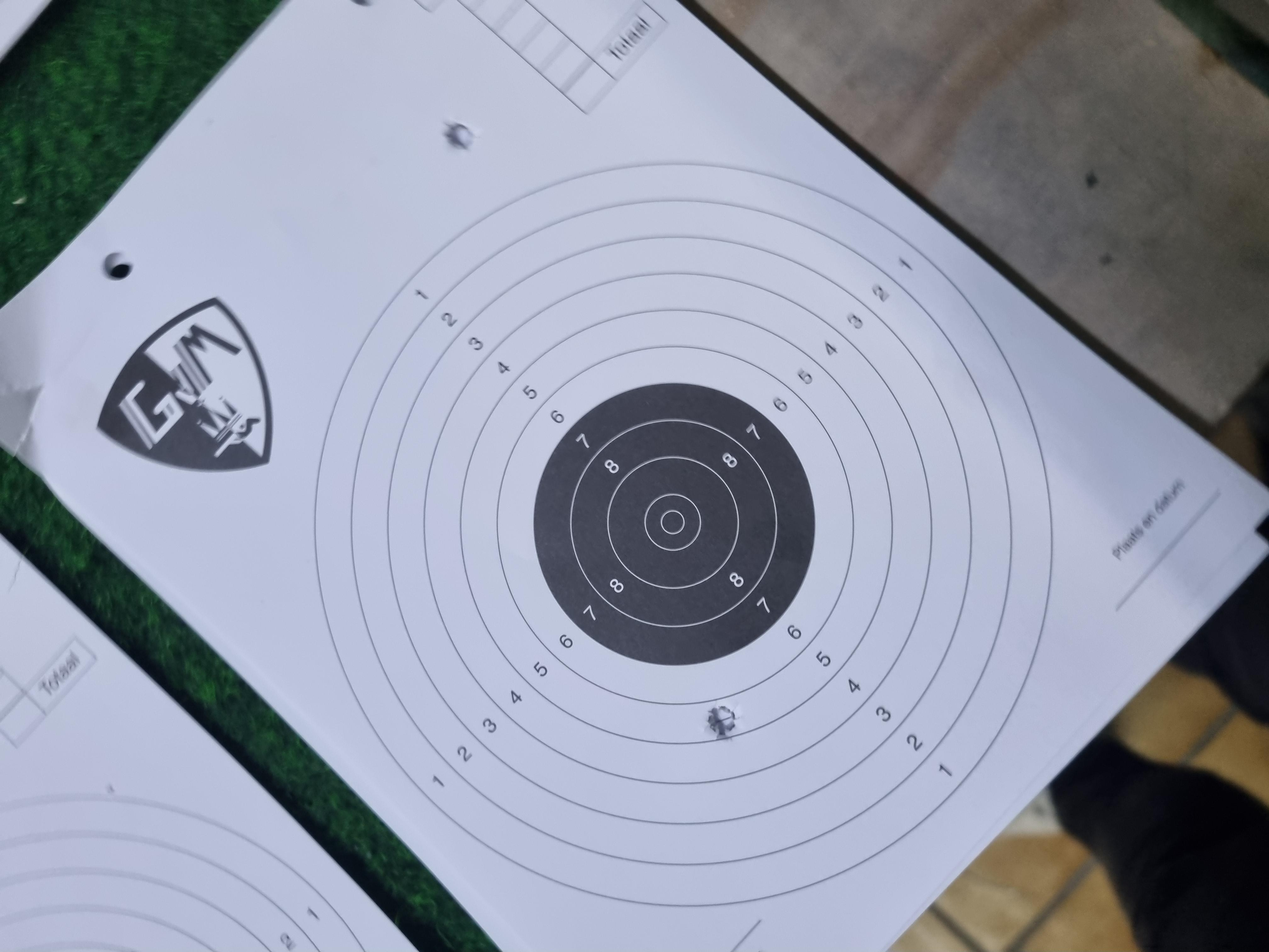hole: (281, 531, 328, 552), (1068, 333, 1104, 354)
